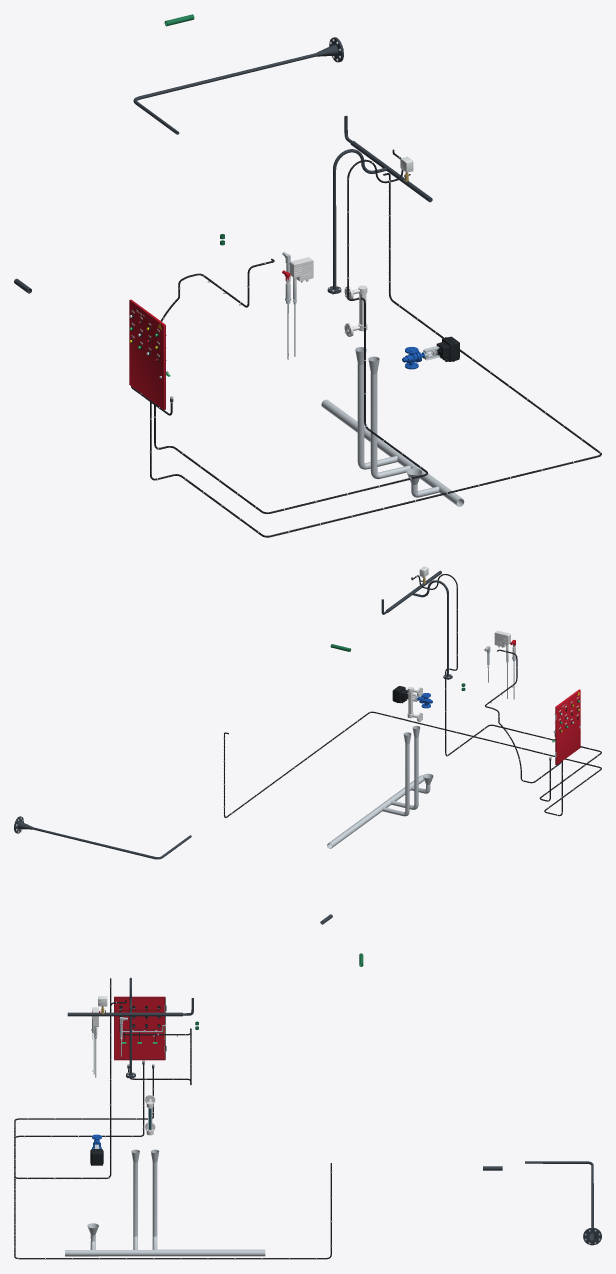
3 views of the same model, one above another, from view 1: azimuth 30°, elevation 25°; view 2: azimuth 150°, elevation 25°; view 3: azimuth 270°, elevation 25° (orthographic). The views are drawn at different scales.
Visible parts, largest first — view 1: local_open_drains / steel, cabinet_door / cabinet_door_5.npz, wiring_pump_2 / black, wiring_pressure_transmitter / black, pressure_header / dark, tds_to_fv / dark, bcv925 / bcv925_0.npz, lcs600 CAD solid 0; view 2: local_open_drains / steel, cabinet_door / cabinet_door_5.npz, wiring_pump_2 / black, wiring_pressure_transmitter / black, tds_to_fv / dark, pressure_header / dark; view 3: cabinet_door / cabinet_door_5.npz, local_open_drains / steel, wiring_pump_2 / black, wiring_pressure_transmitter / black, pressure_header / dark, tds_to_fv / dark.
Boxes of the visible parts, x1=… form: local_open_drains / steel: x1=321, y1=347, x2=464, y2=506; cabinet_door / cabinet_door_5.npz: x1=129, y1=299, x2=166, y2=409; wiring_pump_2 / black: x1=150, y1=173, x2=601, y2=537; wiring_pressure_transmitter / black: x1=154, y1=149, x2=428, y2=513; pressure_header / dark: x1=327, y1=115, x2=432, y2=293; tds_to_fv / dark: x1=133, y1=37, x2=343, y2=134; bcv925 / bcv925_0.npz: x1=402, y1=336, x2=459, y2=369; lcs600 CAD solid 0: x1=290, y1=257, x2=313, y2=356; local_open_drains / steel: x1=327, y1=725, x2=433, y2=848; cabinet_door / cabinet_door_5.npz: x1=554, y1=689, x2=580, y2=765; wiring_pump_2 / black: x1=224, y1=711, x2=601, y2=817; wiring_pressure_transmitter / black: x1=411, y1=574, x2=601, y2=801; tds_to_fv / dark: x1=14, y1=816, x2=191, y2=859; pressure_header / dark: x1=381, y1=570, x2=452, y2=679; cabinet_door / cabinet_door_5.npz: x1=114, y1=996, x2=166, y2=1060; local_open_drains / steel: x1=65, y1=1149, x2=265, y2=1256; wiring_pump_2 / black: x1=14, y1=1064, x2=331, y2=1259; wiring_pressure_transmitter / black: x1=14, y1=978, x2=153, y2=1178; pressure_header / dark: x1=67, y1=977, x2=193, y2=1078; tds_to_fv / dark: x1=525, y1=1161, x2=601, y2=1245.
Size of the model in its own units: 4.43 by 3.06 by 6.08.
